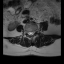CCS_stenosis: (29, 29, 31, 38)
LFS_normal: (34, 28, 36, 35)
LLS_normal: (31, 29, 34, 36)
RFS_normal: (25, 28, 27, 36)
RLS_normal: (27, 29, 29, 36)
